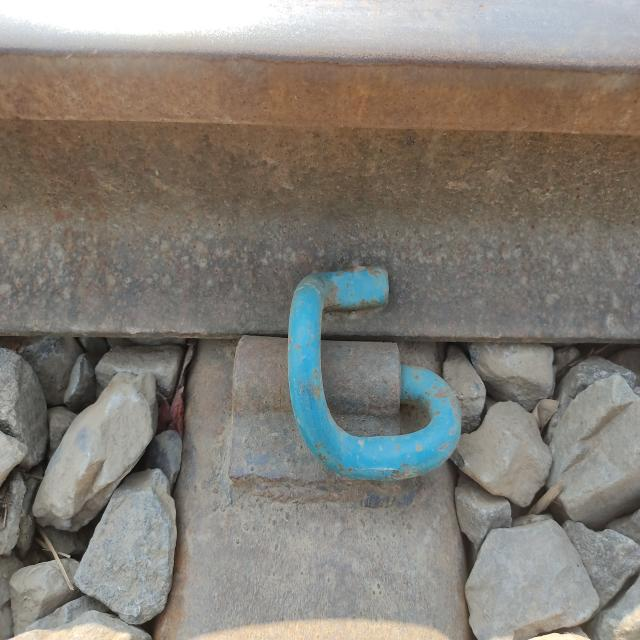non-defective: (229, 211, 499, 525)
